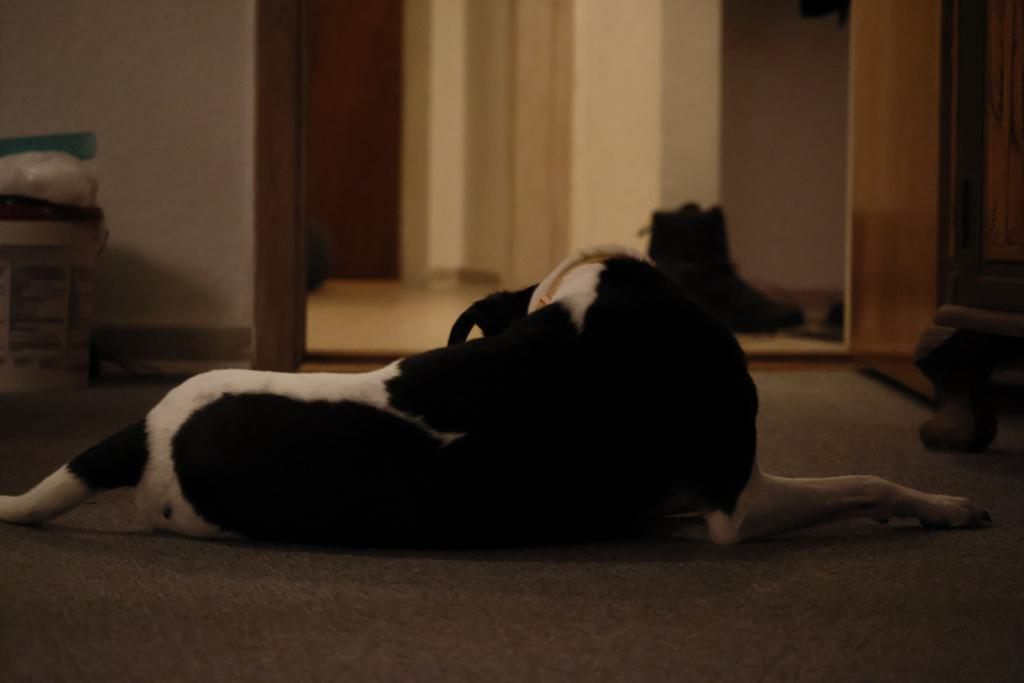Dog: (0, 237, 1003, 569)
